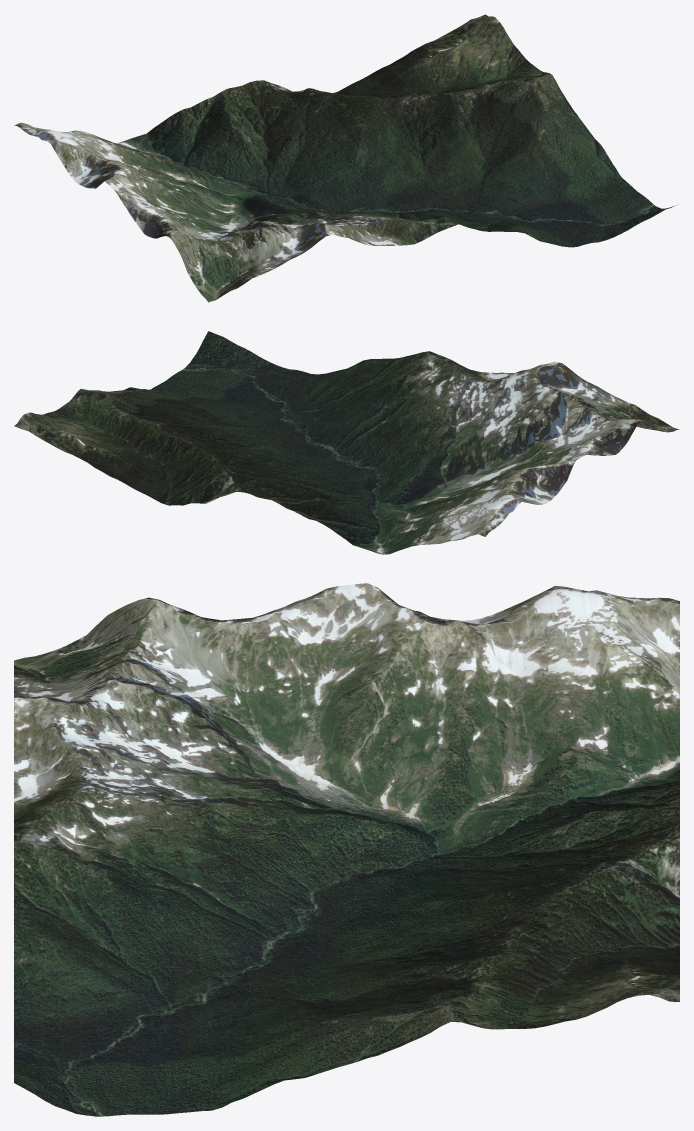
Rendered from testGIS3.gltf.
3 views of the same model, one above another, from view 1: azimuth 30°, elevation 25°; view 2: azimuth 150°, elevation 25°; view 3: azimuth 270°, elevation 25° (orthographic). The views are drawn at different scales.
Parts seen in each view (by area): view 1: EXPORT_GOOGLE_SAT_WM; view 2: EXPORT_GOOGLE_SAT_WM; view 3: EXPORT_GOOGLE_SAT_WM.
Part boxes in pixels (bbox=[...]): EXPORT_GOOGLE_SAT_WM: bbox=[14, 14, 675, 302]; EXPORT_GOOGLE_SAT_WM: bbox=[14, 331, 679, 554]; EXPORT_GOOGLE_SAT_WM: bbox=[14, 583, 679, 1116].
Size of the model in its own units: 8561 by 1421 by 6115.
1 material, 1 textured.
